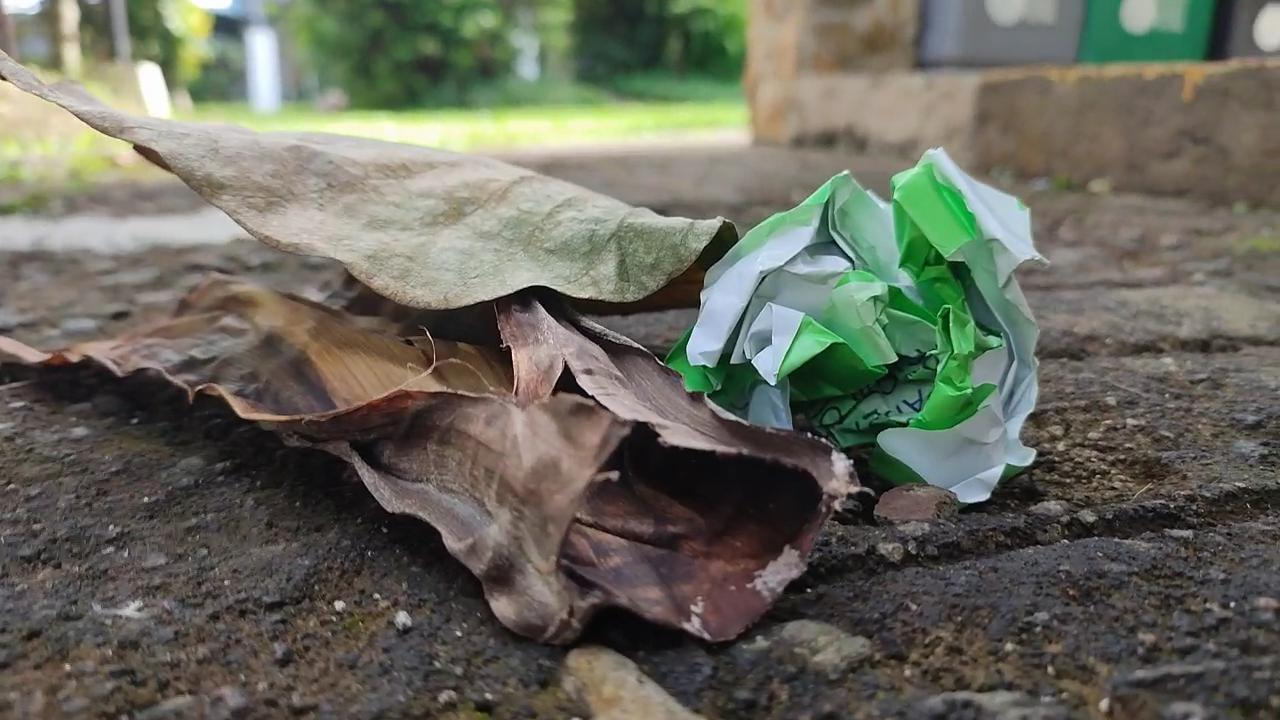Paper: (702, 150, 1053, 526)
